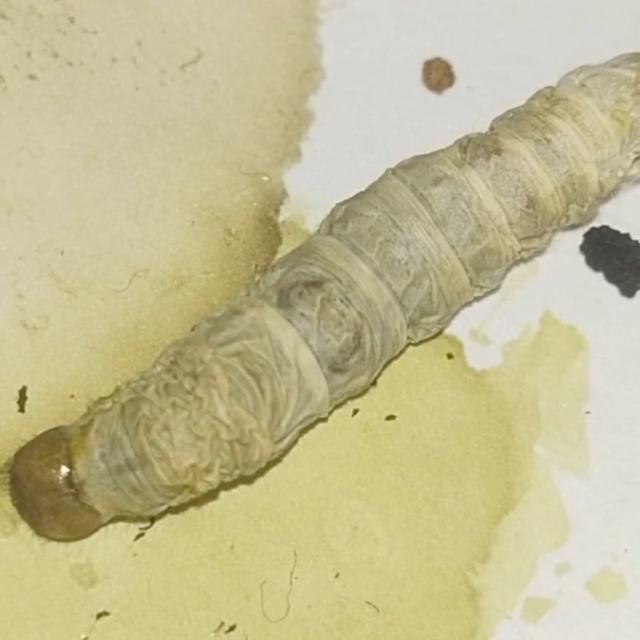Grasserie: (6, 25, 640, 597)
